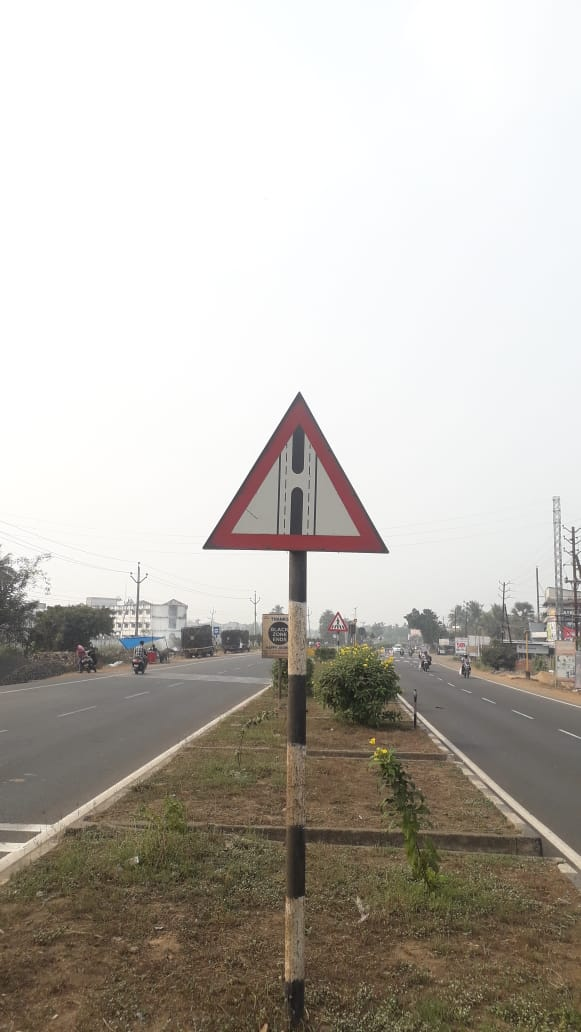highway go straight: (198, 390, 433, 607)
